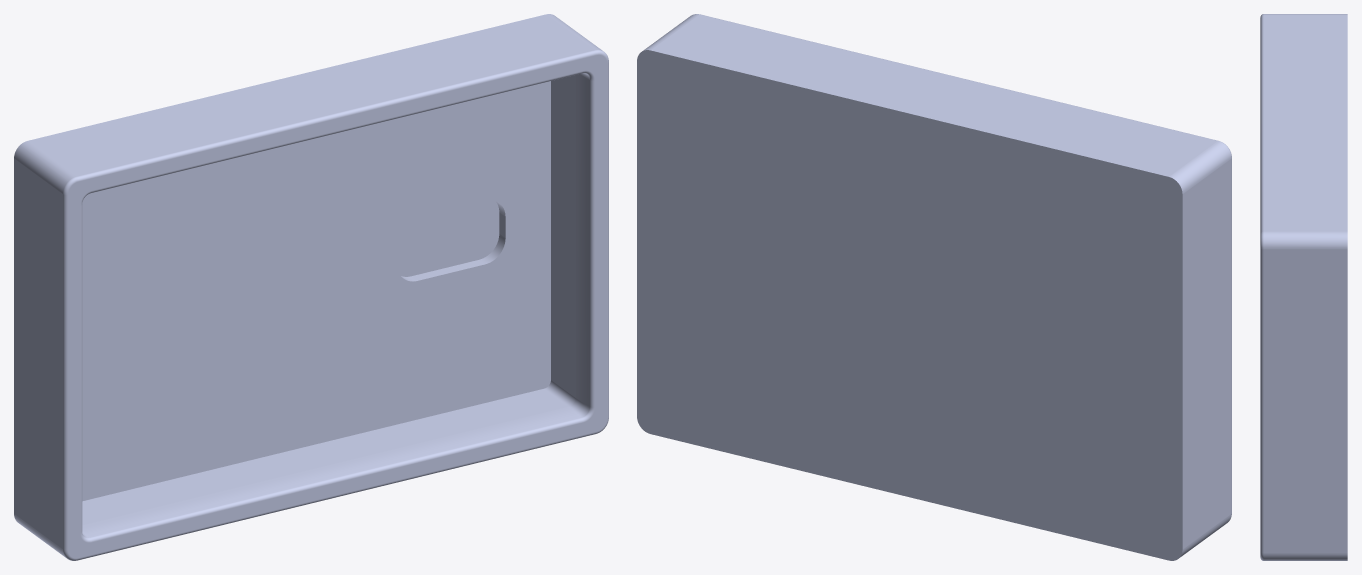
The model's file is holder.glb.
3 renders of one model, left to right at view 1: azimuth 30°, elevation 25°; view 2: azimuth 150°, elevation 25°; view 3: azimuth 270°, elevation 25°, orthographic. The views are drawn at different scales.
Visible parts, largest first — view 1: holder3_metal; view 2: holder3_metal; view 3: holder3_metal.
Boxes of the visible parts, x1,y1,x2,y2 form: holder3_metal: (14,14,608,560); holder3_metal: (637,14,1231,560); holder3_metal: (1260,14,1347,560).
Bounding box in the file's own units: 0.0805 × 0.0541 × 0.013.
